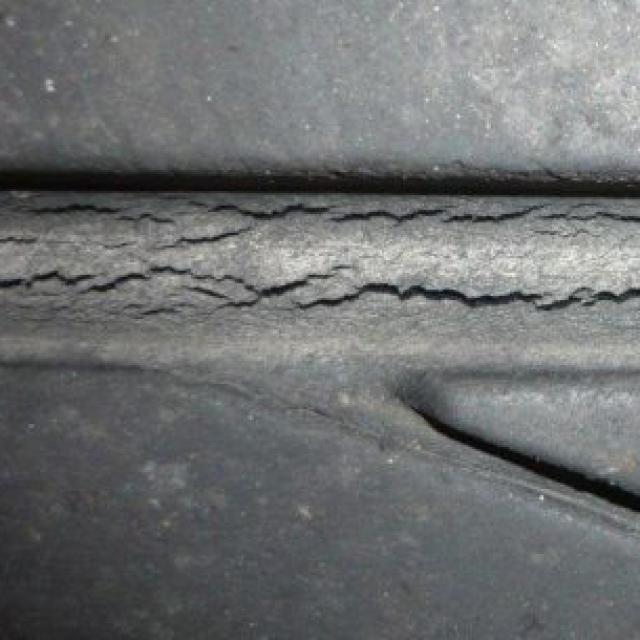Cracks: (0, 170, 639, 332)
Non-defective: (2, 359, 640, 639)
